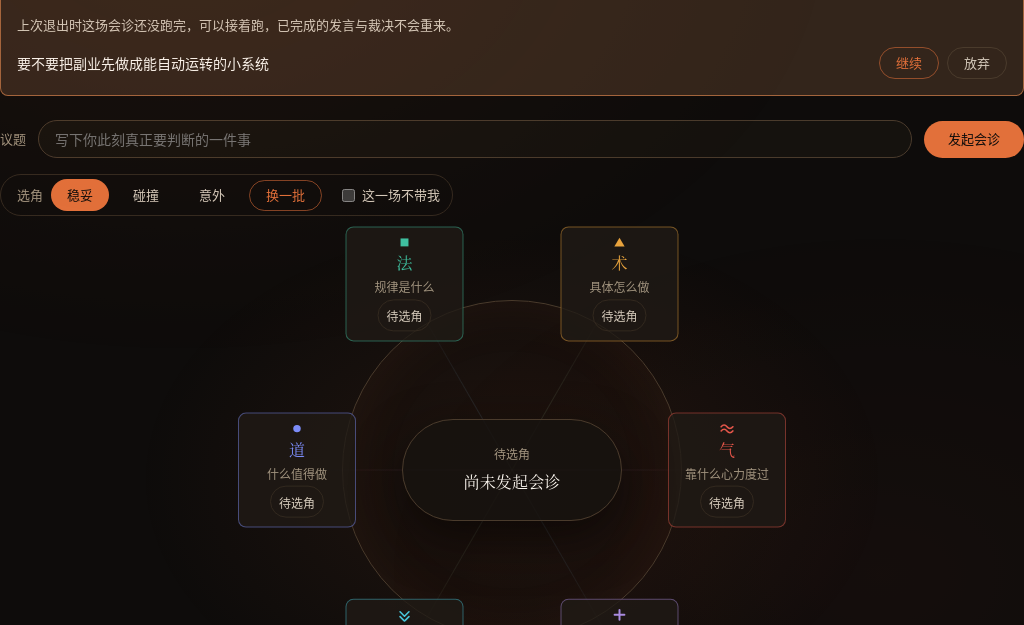
Test case: 圆桌会诊 › 发起后六席入座并给出本次结论
The width and height of the screenshot is (1024, 625).
Type "要不要换一条赛道" into the field labelled "议题".
click(475, 139); type("要不要换一条赛道")  # box [38, 120, 912, 158]
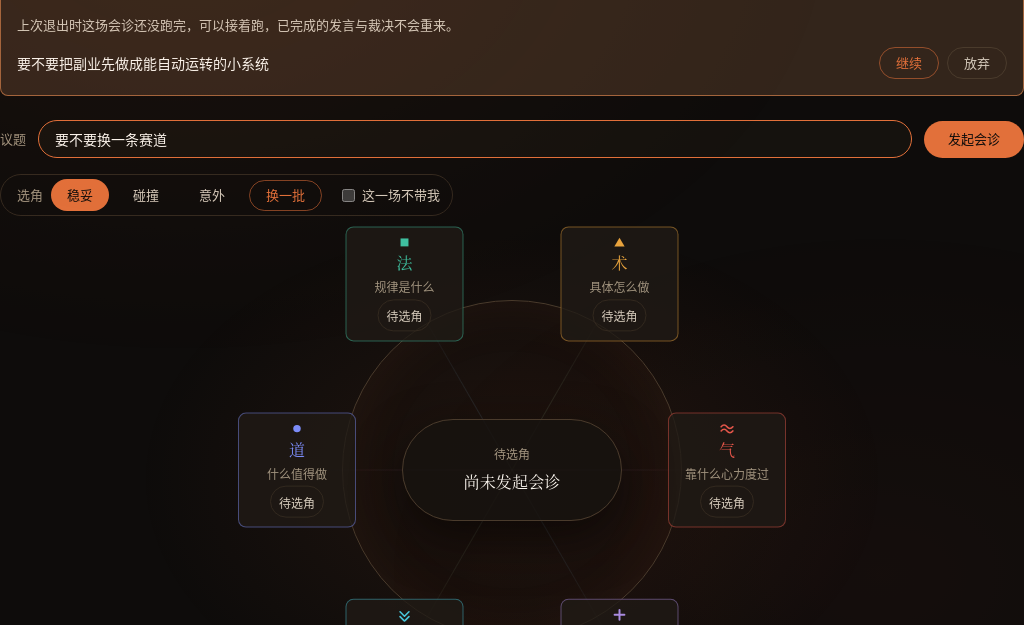
Click the button "发起会诊".
click(974, 139)  # box [924, 121, 1023, 158]
(page scrolled)
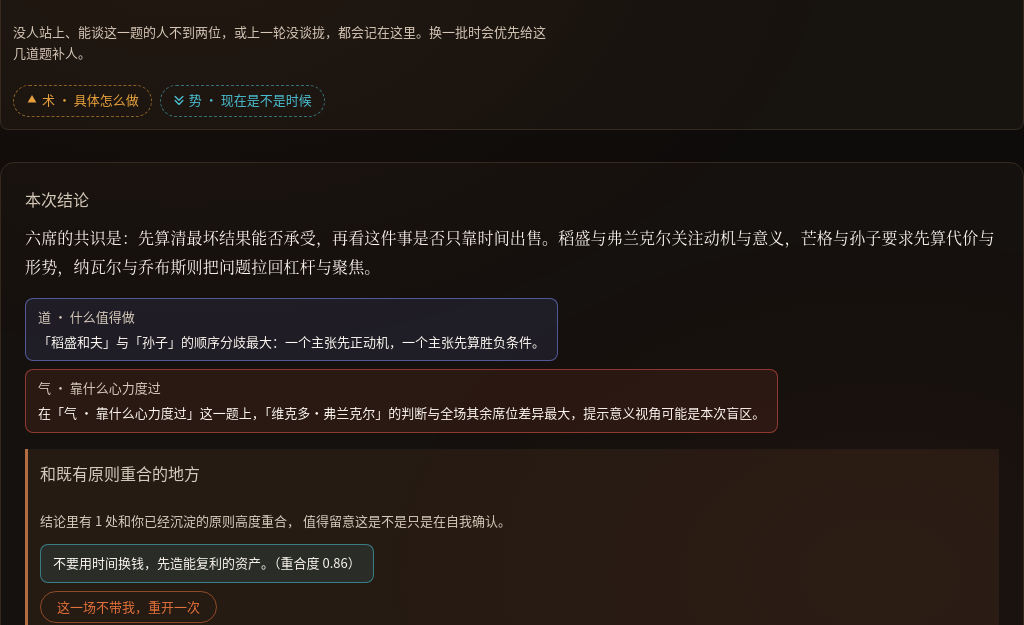
Expected: the heading "本次结论" is shown, [25, 187, 89, 211]
Expected: the text "六席的共识是" is shown, [25, 226, 995, 278]
